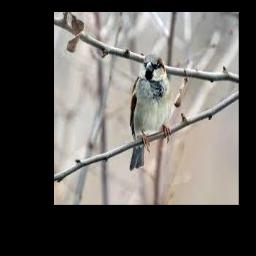Sparrow: (129, 53, 171, 170)
